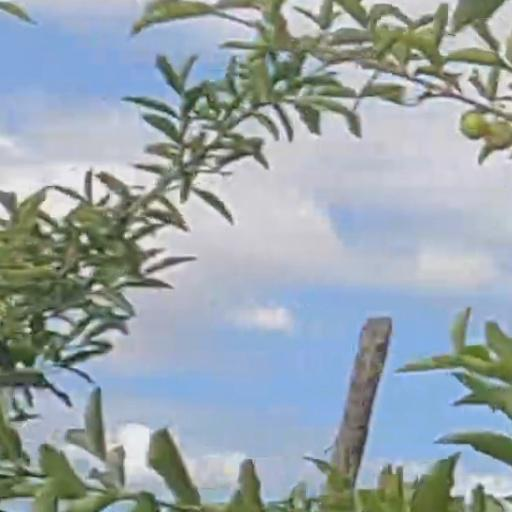acerola_verde: (461, 110, 486, 140), (488, 122, 509, 146)
